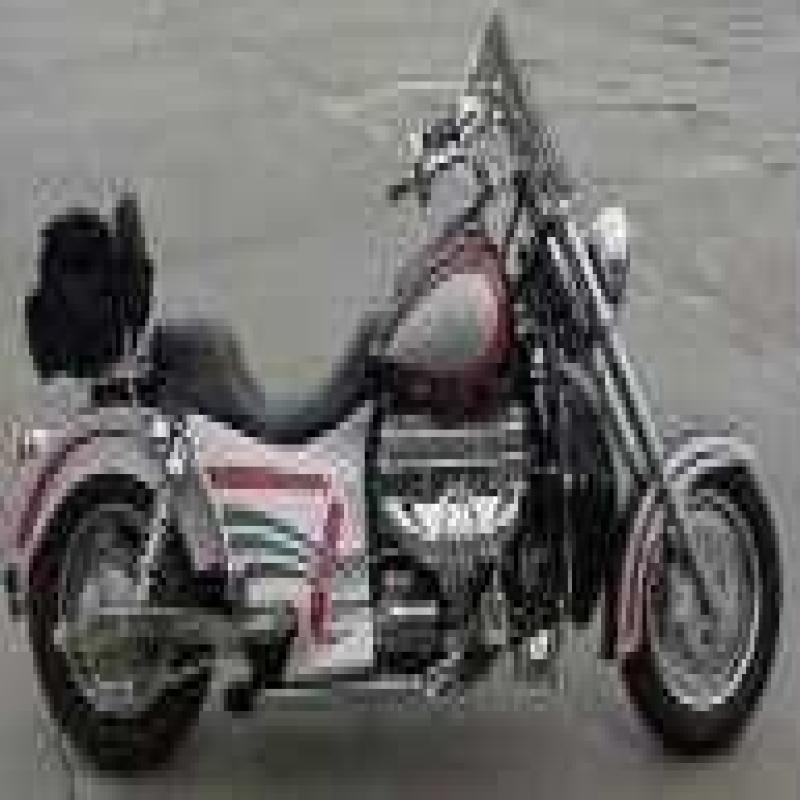bike: (7, 17, 769, 758)
